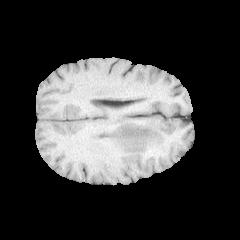glioma: (109, 121, 168, 160)
